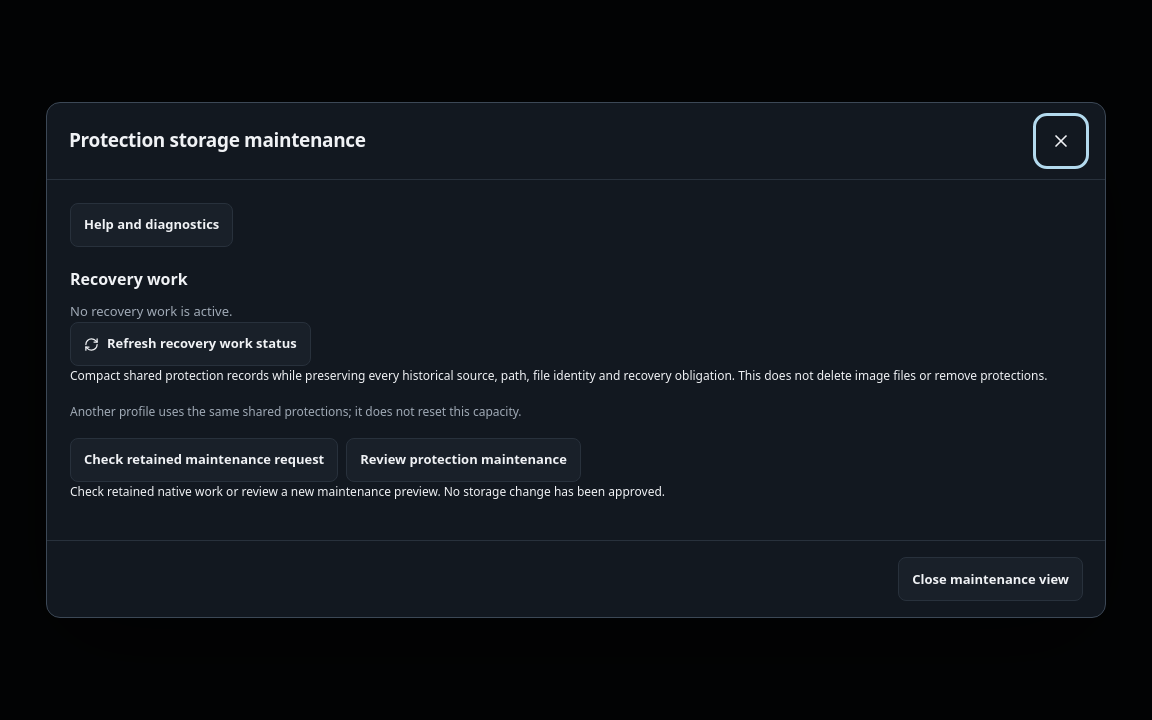
requires a fresh approval after STALE_REGISTRY_PREVIEW
The width and height of the screenshot is (1152, 720).
Click the button "Review protection maintenance" at (464, 460), box [346,438,581,482]
(page scrolled)
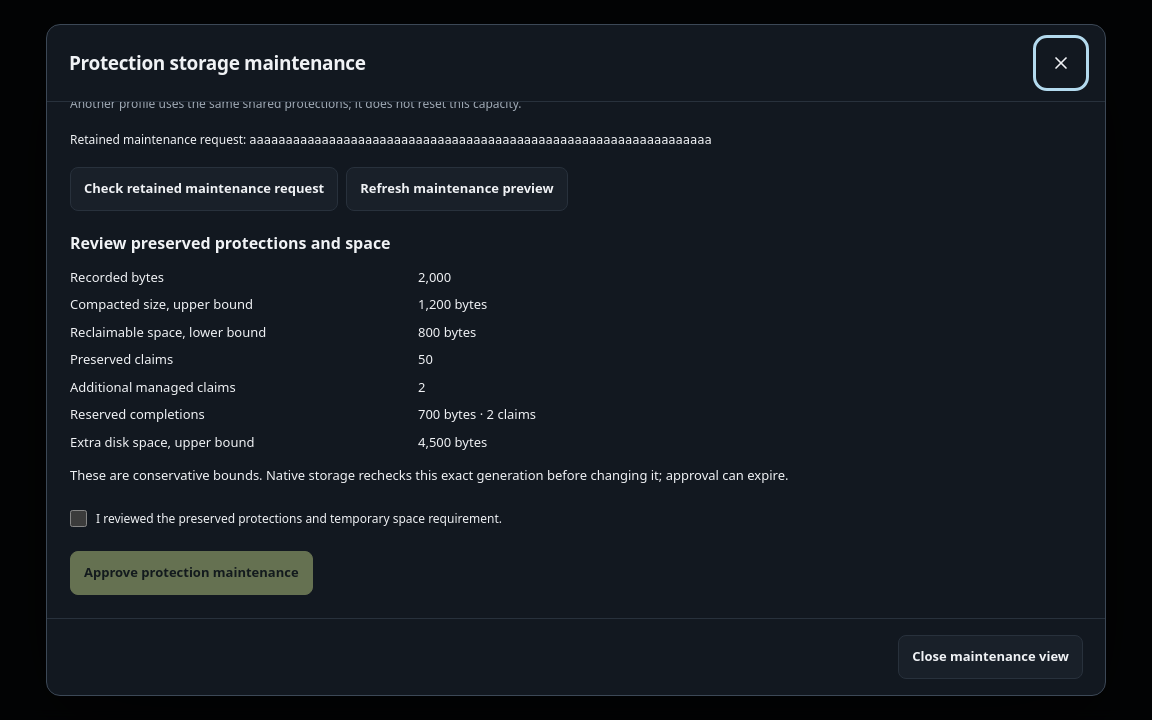
Now the element named "Protection maintenance preview" is shown, box [70,232,788,595]
Now the checkbox labelled "I reviewed the preserved protections" is enabled
Click the checkbox labelled "I reviewed the preserved protections" at (78, 519), box [70,510,87,527]
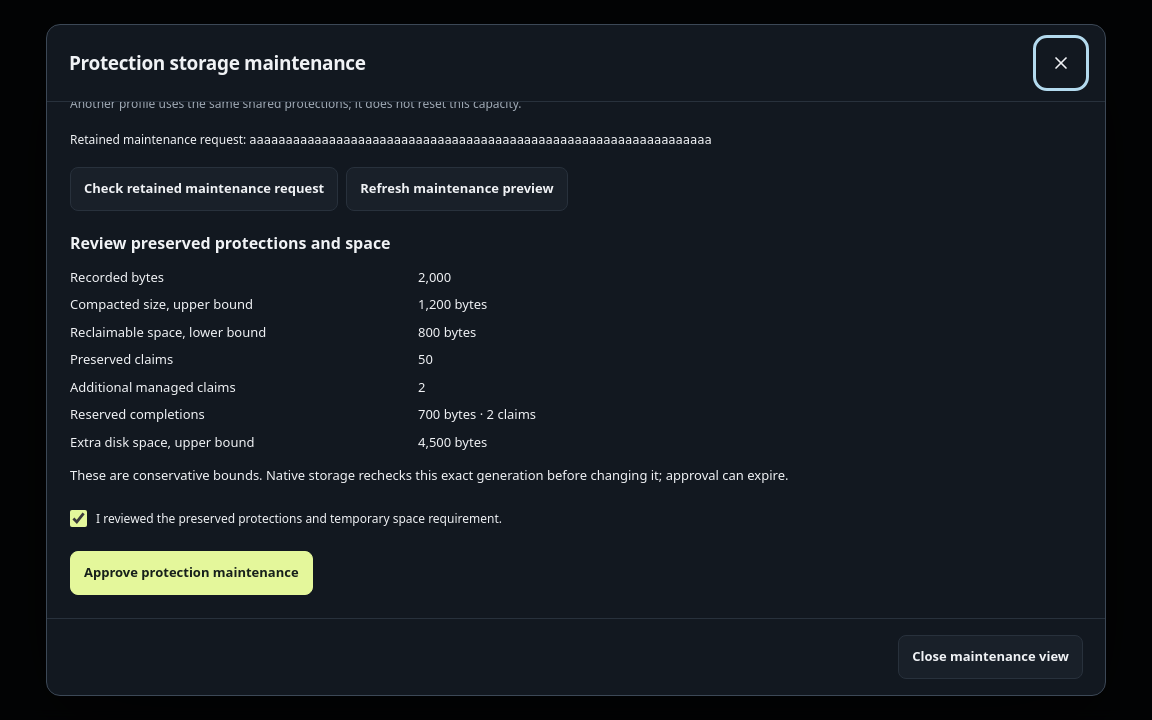
Now the button "Approve protection maintenance" is enabled
Click the button "Approve protection maintenance" at (191, 573), box [70,551,313,595]
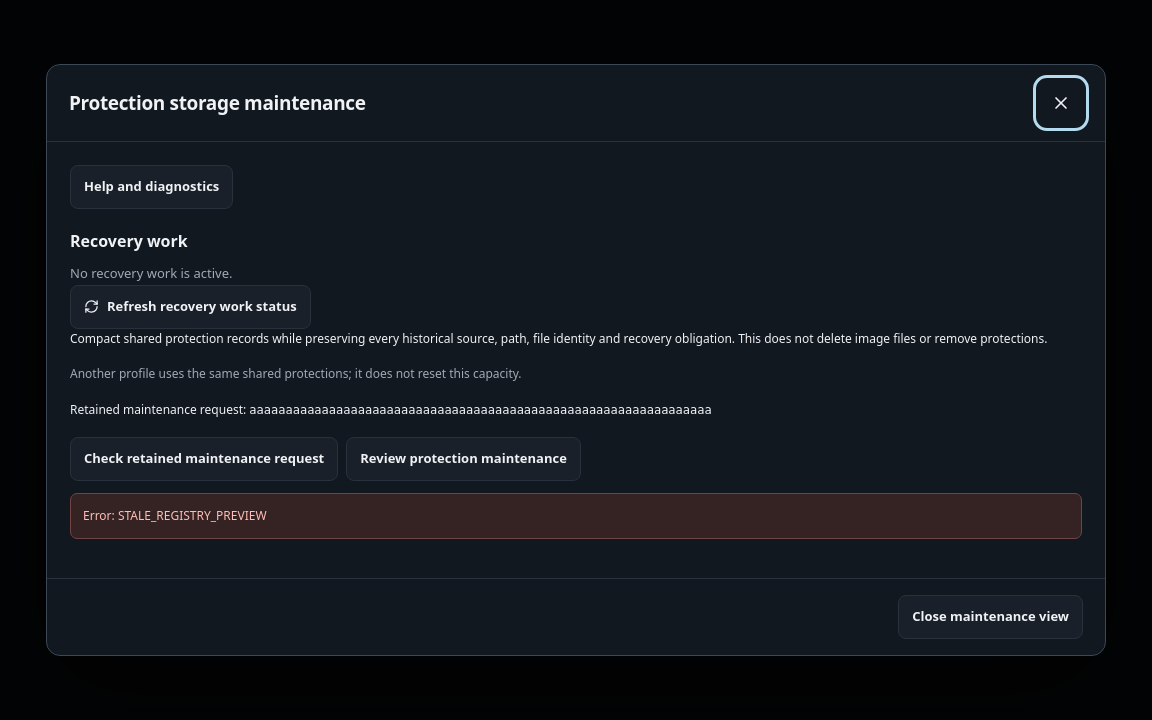
Now the message "Error: STALE_REGISTRY_PREVIEW" is shown, box [70,493,1082,539]
Now the label "I reviewed" is gone
Click the button "Review protection maintenance" at (464, 459), box [346,437,581,481]
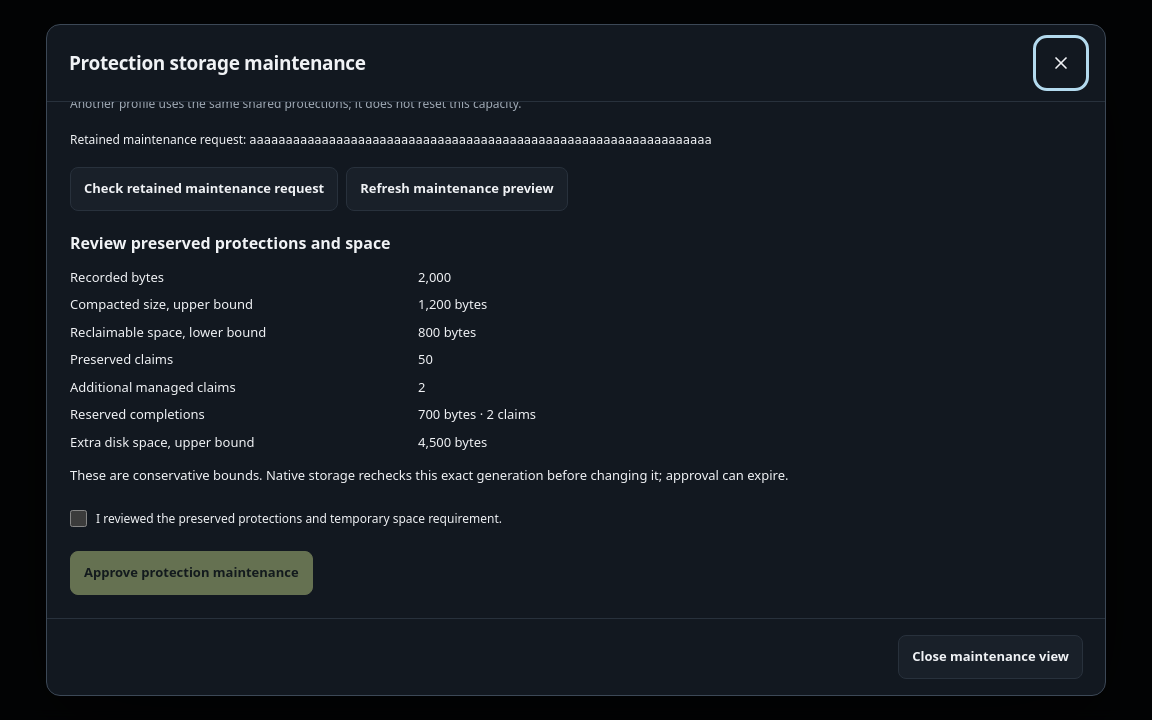
Now the element named "Protection maintenance preview" is shown, box [70,232,788,595]
Now the checkbox labelled "I reviewed" is not checked, box [70,510,87,527]
